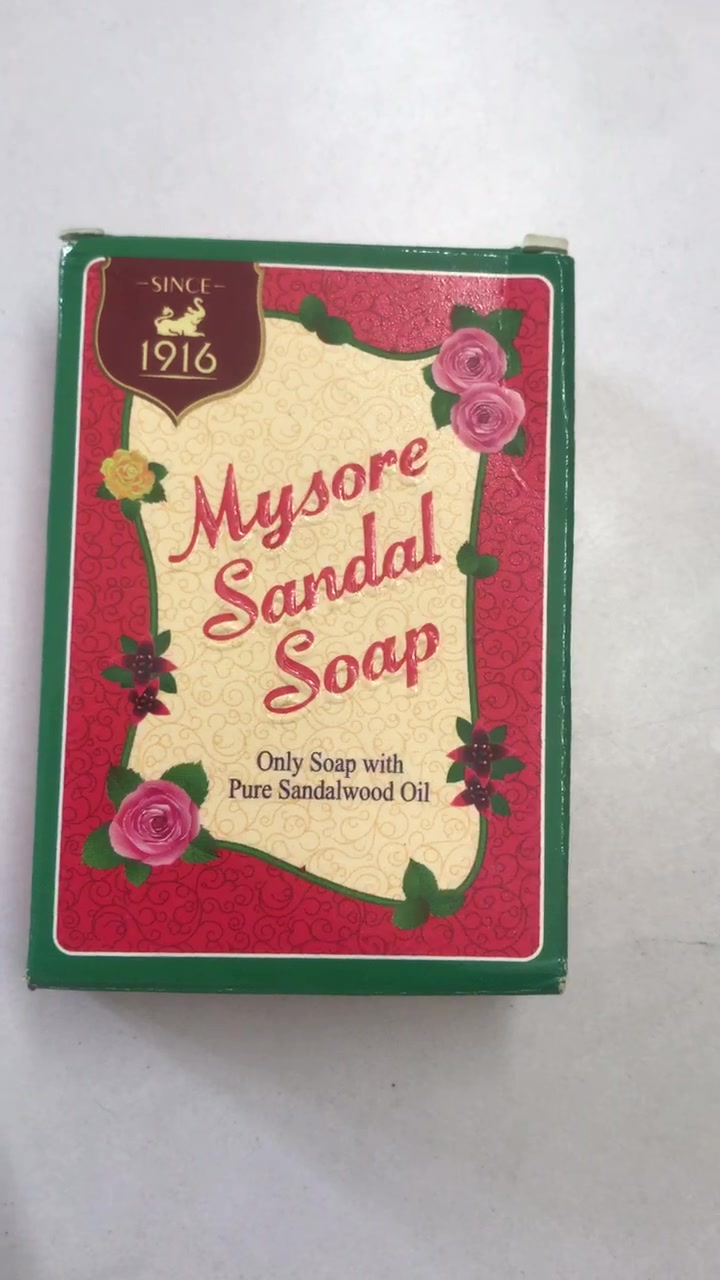mysore sandal soap: (23, 234, 578, 998)
